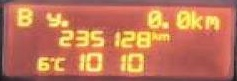-: (159, 20, 169, 30), (59, 17, 69, 27)
0: (125, 51, 144, 71), (85, 51, 102, 71), (145, 7, 160, 27), (174, 8, 189, 28)
1: (117, 52, 123, 71), (77, 52, 83, 69), (112, 31, 118, 47)
2: (57, 30, 72, 46), (120, 28, 134, 45)
3: (73, 28, 87, 47)
5: (88, 27, 102, 47)
6: (35, 55, 49, 71)
8: (135, 29, 149, 47)
X: (13, 5, 32, 26), (188, 8, 202, 29), (52, 55, 67, 71), (204, 12, 219, 28), (45, 11, 59, 27), (157, 31, 168, 41), (150, 30, 157, 40)
